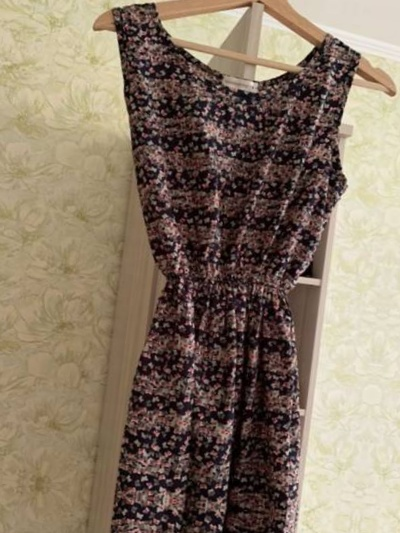Dress: (24, 0, 381, 517), (0, 486, 318, 533), (394, 36, 400, 533)
